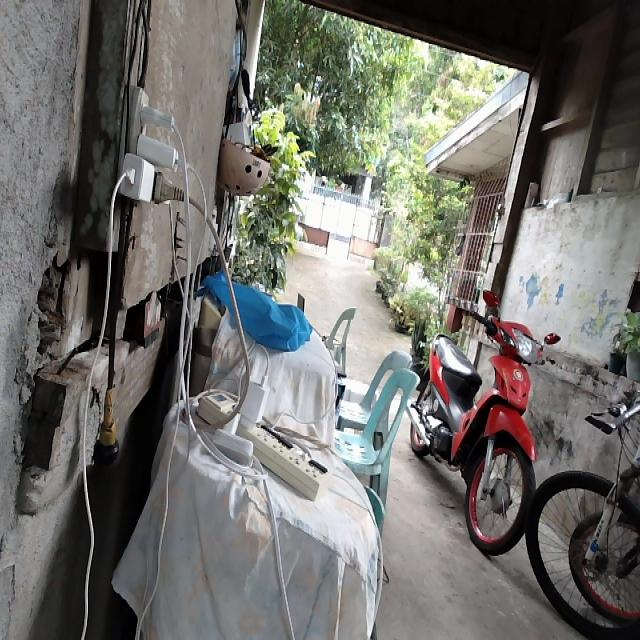-: (113, 83, 181, 204)
